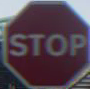Stop: (6, 10, 85, 77)
